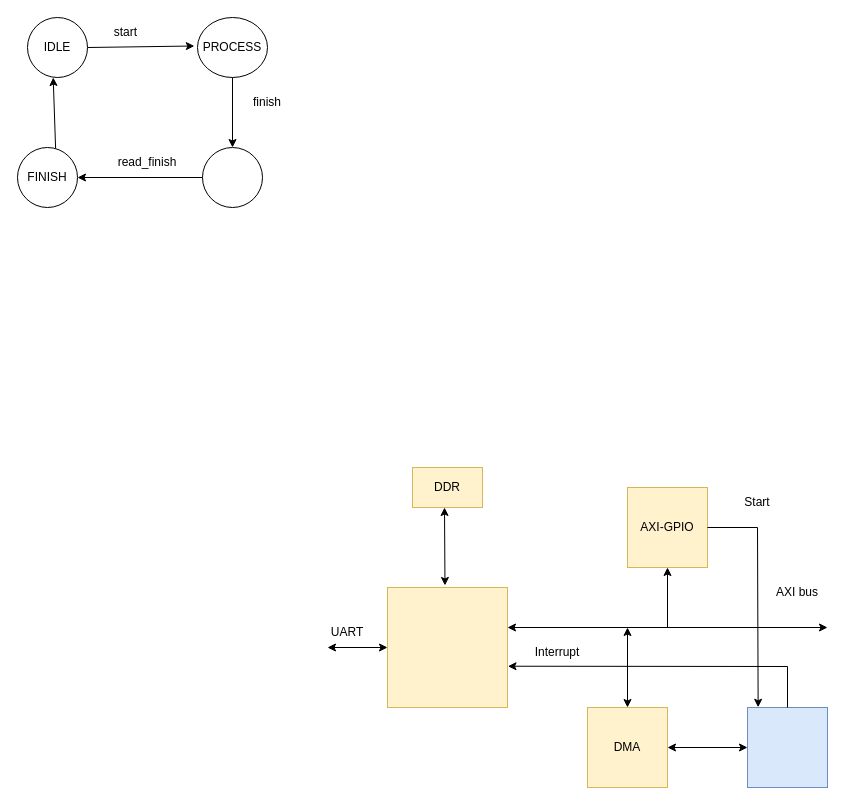
The diagram is 854 pixels wide and 805 high, and some of its shapes have lost their labels. The shapes that lost their labels are listed below. From the top down, each one's box as (x1, y1, x2, y2) in pixels, then its label:
(202, 146, 262, 208): READ
(386, 586, 508, 708): PS
(746, 706, 828, 788): IP
